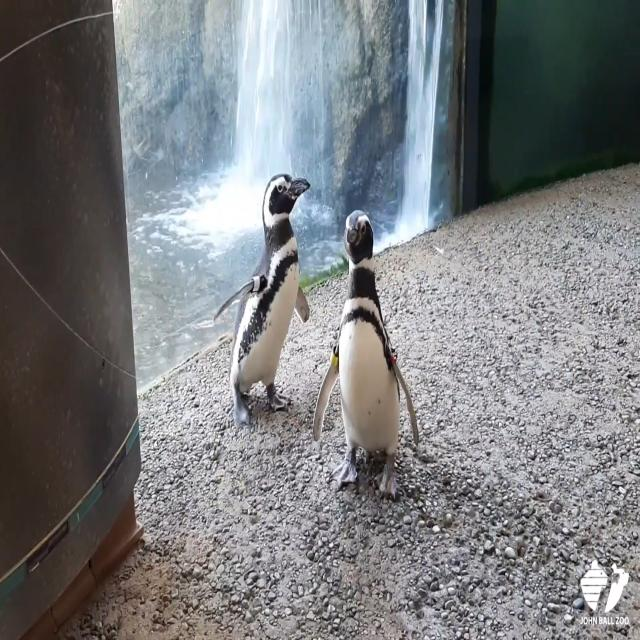penguin: (314, 212, 420, 498), (213, 168, 315, 429)
